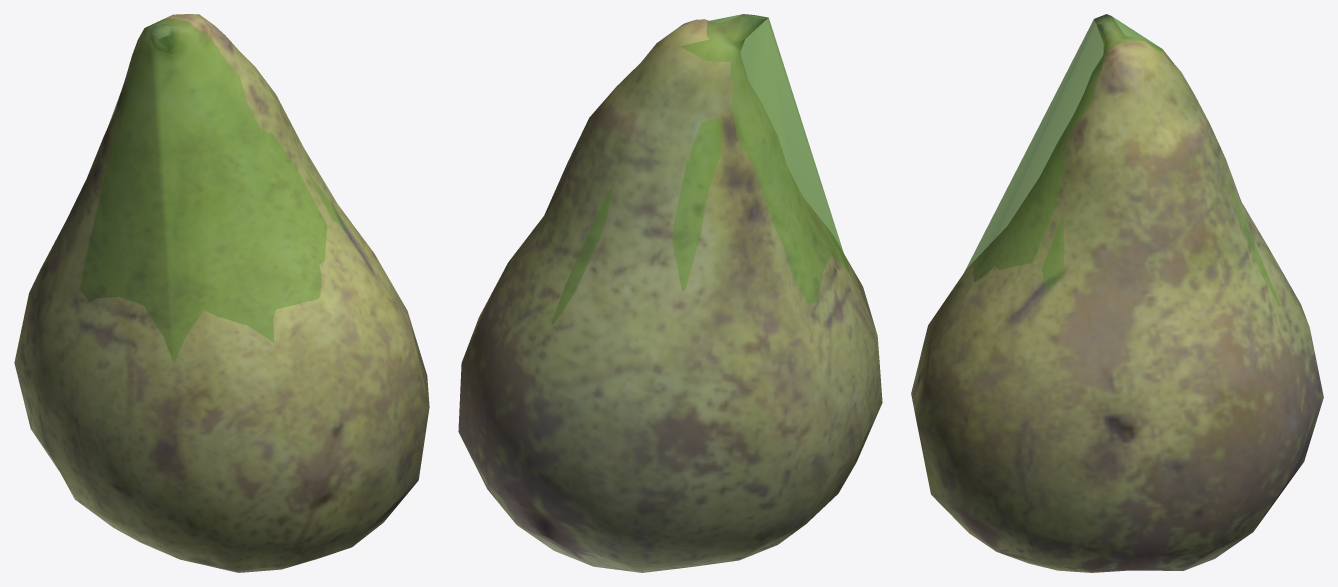
The model's file is pg_Pear_02.fbx.
3 renders of one model, left to right at view 1: azimuth 30°, elevation 25°; view 2: azimuth 150°, elevation 25°; view 3: azimuth 270°, elevation 25°, orthographic. The views are drawn at different scales.
Parts seen in each view (by area): view 1: pg_Pear_02_a_LOD0, pg_Pear_02_a_col; view 2: pg_Pear_02_a_LOD0, pg_Pear_02_a_col; view 3: pg_Pear_02_a_LOD0, pg_Pear_02_a_col.
Boxes of the visible parts, x1,y1,x2,y2 form: pg_Pear_02_a_LOD0: (14,14,429,572); pg_Pear_02_a_col: (62,18,419,552); pg_Pear_02_a_LOD0: (458,14,882,572); pg_Pear_02_a_col: (551,14,850,433); pg_Pear_02_a_LOD0: (911,14,1323,572); pg_Pear_02_a_col: (964,14,1280,540).
Size of what is drawn, in the model's own units: 6.01 by 8.9 by 6.78.
2 materials, 1 textured.
